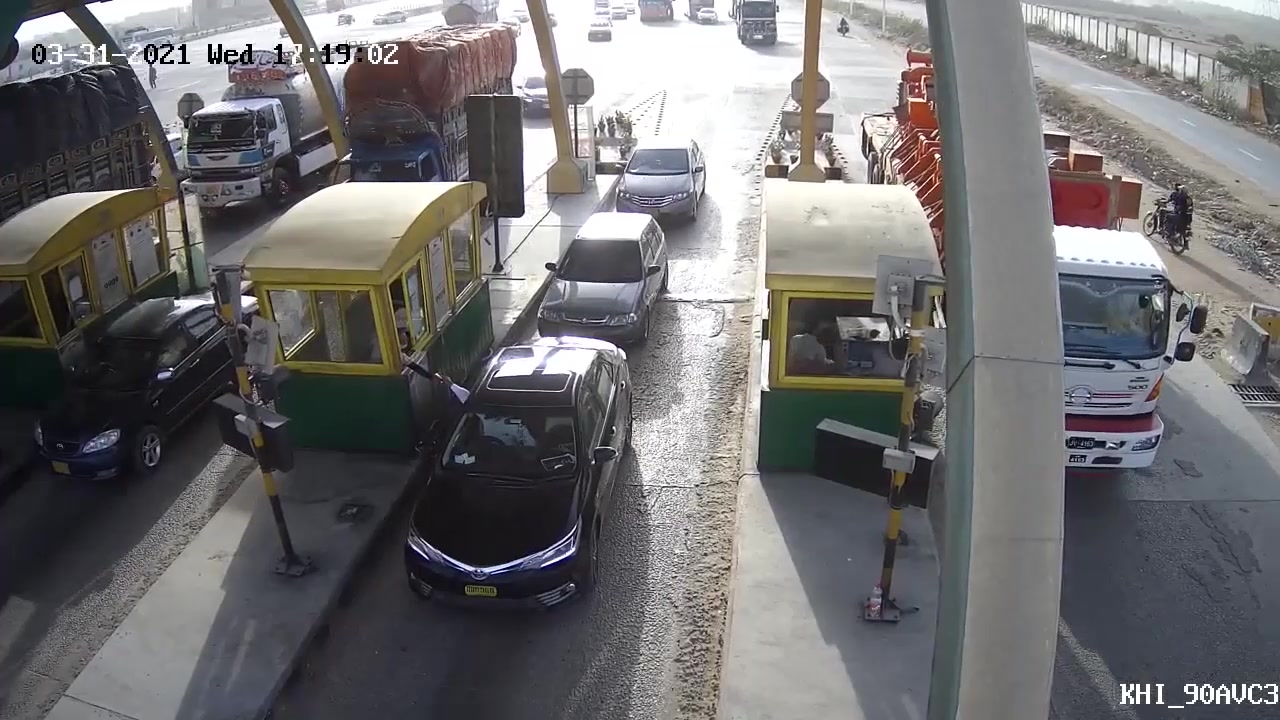F1: (388, 332, 640, 639), (533, 206, 668, 345), (613, 140, 710, 228)
